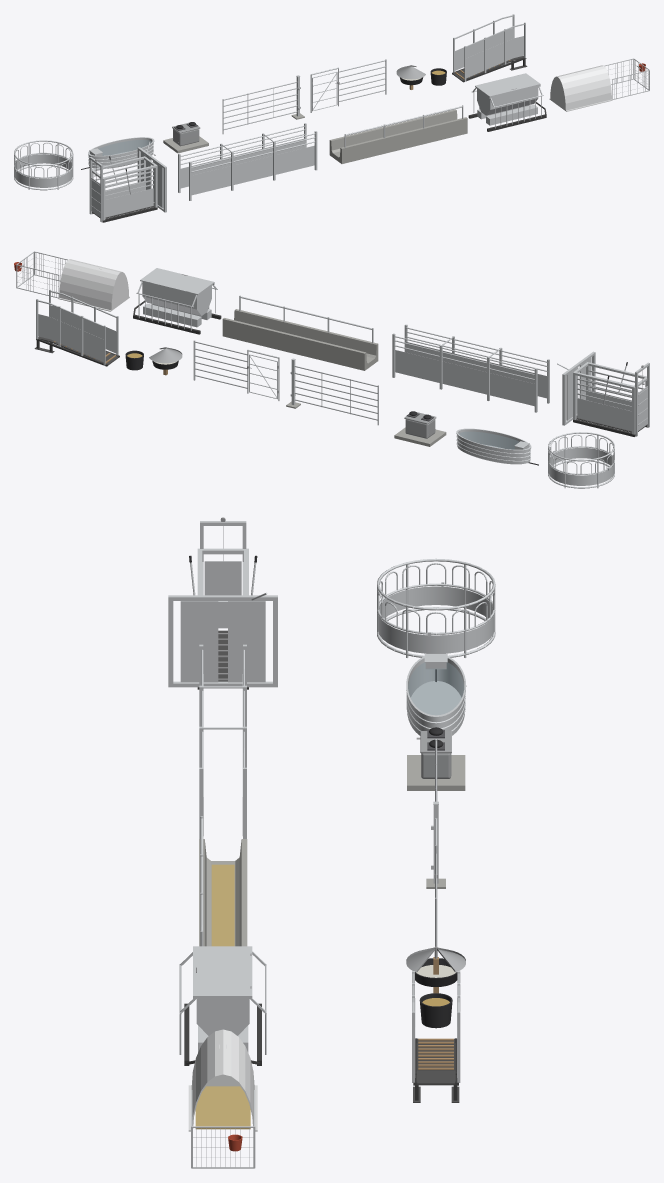
Rendered from livestock_props.glb.
3 views of the same model, one above another, from view 1: azimuth 30°, elevation 25°; view 2: azimuth 150°, elevation 25°; view 3: azimuth 270°, elevation 25° (orthographic). The views are drawn at different scales.
Parts seen in each view (by area): view 1: alley_section, feed_bunk, squeeze_chute, calf_hutch, loading_ramp, creep_feeder, bale_feeder_ring, water_trough, creep_feeder_lid_tilt, cattle_panel, frost_free_waterer, fence_gate_panel (+3 smaller); view 2: alley_section, feed_bunk, squeeze_chute, loading_ramp, calf_hutch, creep_feeder, bale_feeder_ring, water_trough, frost_free_waterer, cattle_panel, creep_feeder_lid_tilt, fence_gate_panel (+3 smaller); view 3: bale_feeder_ring, calf_hutch, feed_bunk, squeeze_chute, water_trough, creep_feeder, loading_ramp, creep_feeder_lid_tilt, head_gate_right_slide, head_gate_left_slide, frost_free_waterer, alley_section (+3 smaller).
Part boxes in pixels (bbox=[...]): alley_section: bbox=[178, 123, 317, 200]; feed_bunk: bbox=[329, 105, 467, 163]; squeeze_chute: bbox=[89, 141, 166, 222]; calf_hutch: bbox=[549, 58, 649, 111]; loading_ramp: bbox=[452, 14, 527, 82]; creep_feeder: bbox=[468, 86, 546, 131]; bale_feeder_ring: bbox=[14, 140, 73, 190]; water_trough: bbox=[81, 137, 155, 169]; creep_feeder_lid_tilt: bbox=[475, 73, 540, 98]; cattle_panel: bbox=[222, 81, 297, 134]; frost_free_waterer: bbox=[163, 122, 208, 153]; fence_gate_panel: bbox=[310, 59, 386, 112]; alley_section: bbox=[392, 324, 549, 412]; feed_bunk: bbox=[222, 295, 378, 370]; squeeze_chute: bbox=[557, 351, 649, 436]; loading_ramp: bbox=[34, 289, 119, 366]; calf_hutch: bbox=[14, 251, 129, 311]; creep_feeder: bbox=[133, 281, 221, 334]; bale_feeder_ring: bbox=[548, 432, 614, 488]; water_trough: bbox=[456, 428, 538, 465]; frost_free_waterer: bbox=[394, 411, 446, 446]; cattle_panel: bbox=[294, 366, 378, 425]; creep_feeder_lid_tilt: bbox=[140, 268, 214, 294]; fence_gate_panel: bbox=[193, 340, 279, 400]; bale_feeder_ring: bbox=[377, 558, 495, 657]; calf_hutch: bbox=[188, 1029, 257, 1168]; feed_bunk: bbox=[199, 816, 247, 946]; squeeze_chute: bbox=[168, 517, 277, 689]; water_trough: bbox=[406, 653, 466, 739]; creep_feeder: bbox=[179, 951, 266, 1065]; loading_ramp: bbox=[412, 971, 460, 1102]; creep_feeder_lid_tilt: bbox=[193, 946, 252, 1000]; head_gate_right_slide: bbox=[180, 601, 218, 682]; head_gate_left_slide: bbox=[228, 601, 265, 682]; frost_free_waterer: bbox=[407, 727, 465, 790]; alley_section: bbox=[199, 644, 246, 838].
Size of the model in its own units: 27.57 by 2.7 by 6.76.
Materials: 15 (15 with a texture image).
